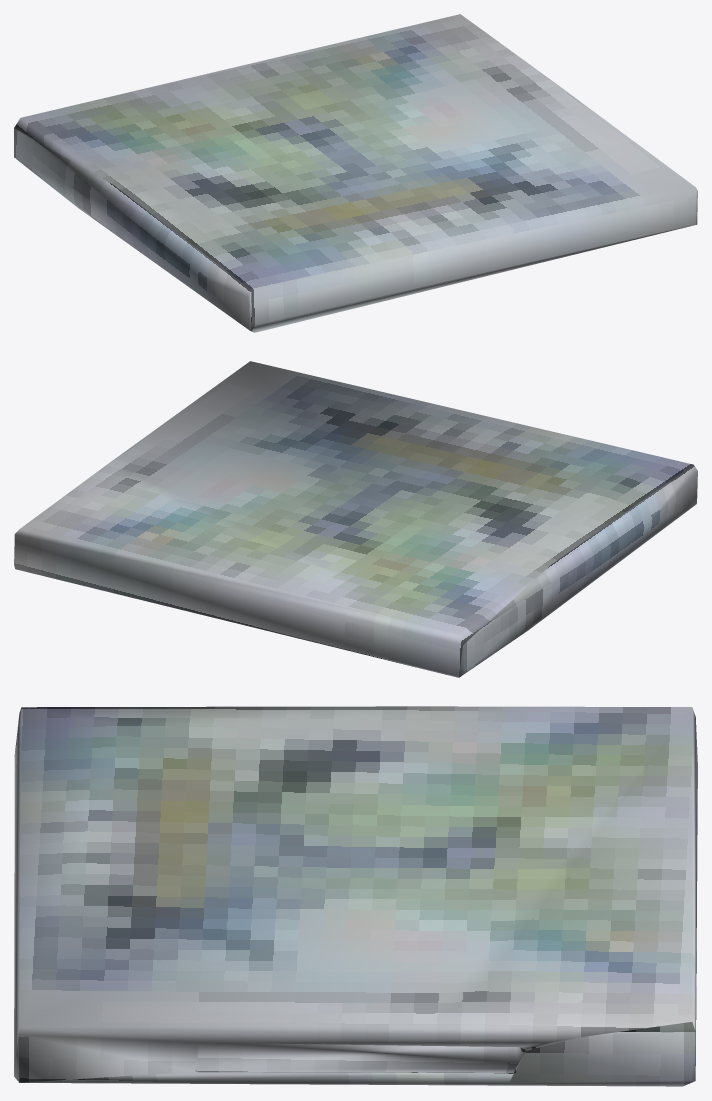
File: Pokmon_X_Nintendo_3DS_Game-low.glb
3 views of the same model, one above another, from view 1: azimuth 30°, elevation 25°; view 2: azimuth 150°, elevation 25°; view 3: azimuth 270°, elevation 25° (orthographic). The views are drawn at different scales.
Parts seen in each view (by area): view 1: Pokmon_X_Nintendo_3DS_Game; view 2: Pokmon_X_Nintendo_3DS_Game; view 3: Pokmon_X_Nintendo_3DS_Game.
Boxes of the visible parts, x1,y1,x2,y2 form: Pokmon_X_Nintendo_3DS_Game: (14,14,697,332); Pokmon_X_Nintendo_3DS_Game: (14,361,697,677); Pokmon_X_Nintendo_3DS_Game: (14,706,697,1086).
Size of the model in its own units: 0.1367 by 0.0145 by 0.1234.
1 material, 1 textured.
